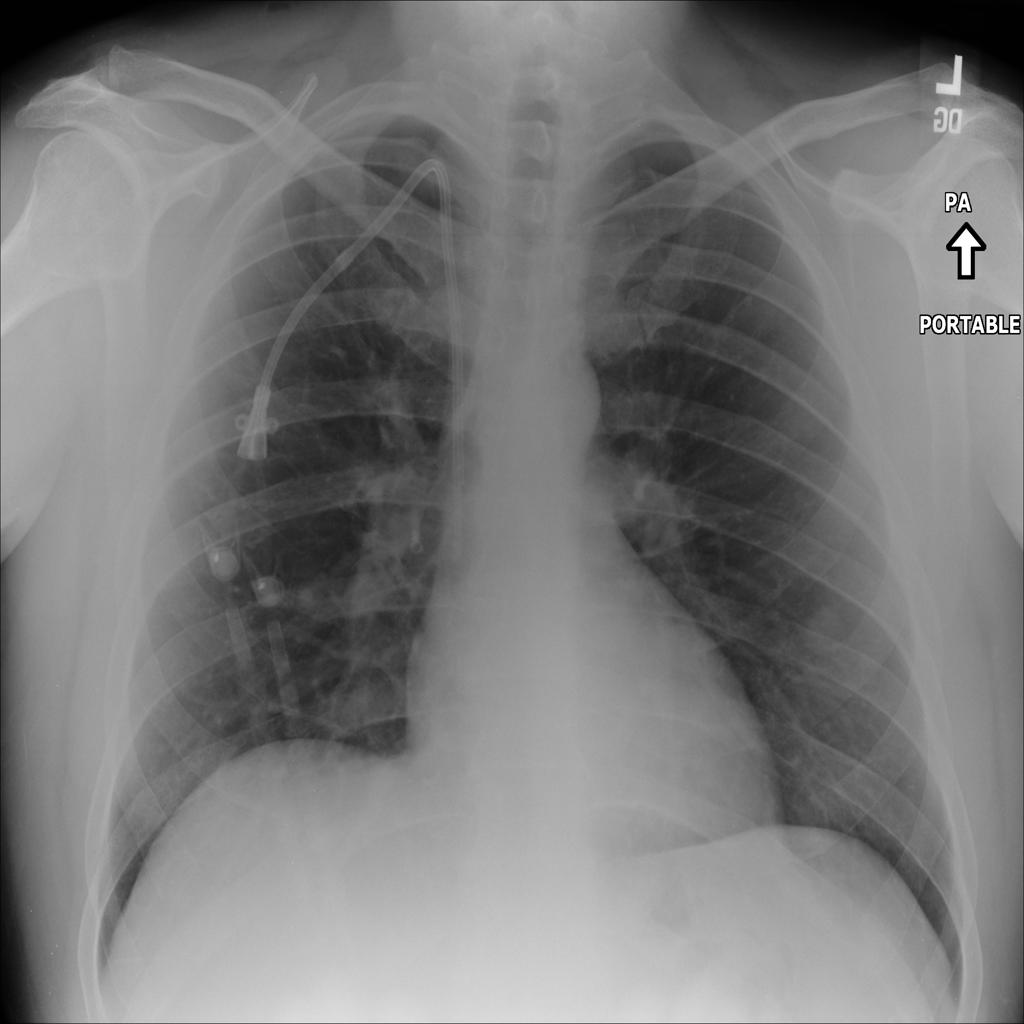nodule: (790, 593, 866, 670)
